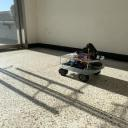cart: (58, 51, 105, 82)
